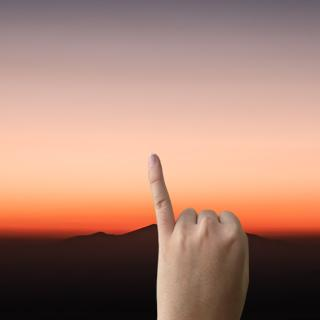Fine: (140, 148, 257, 311)
